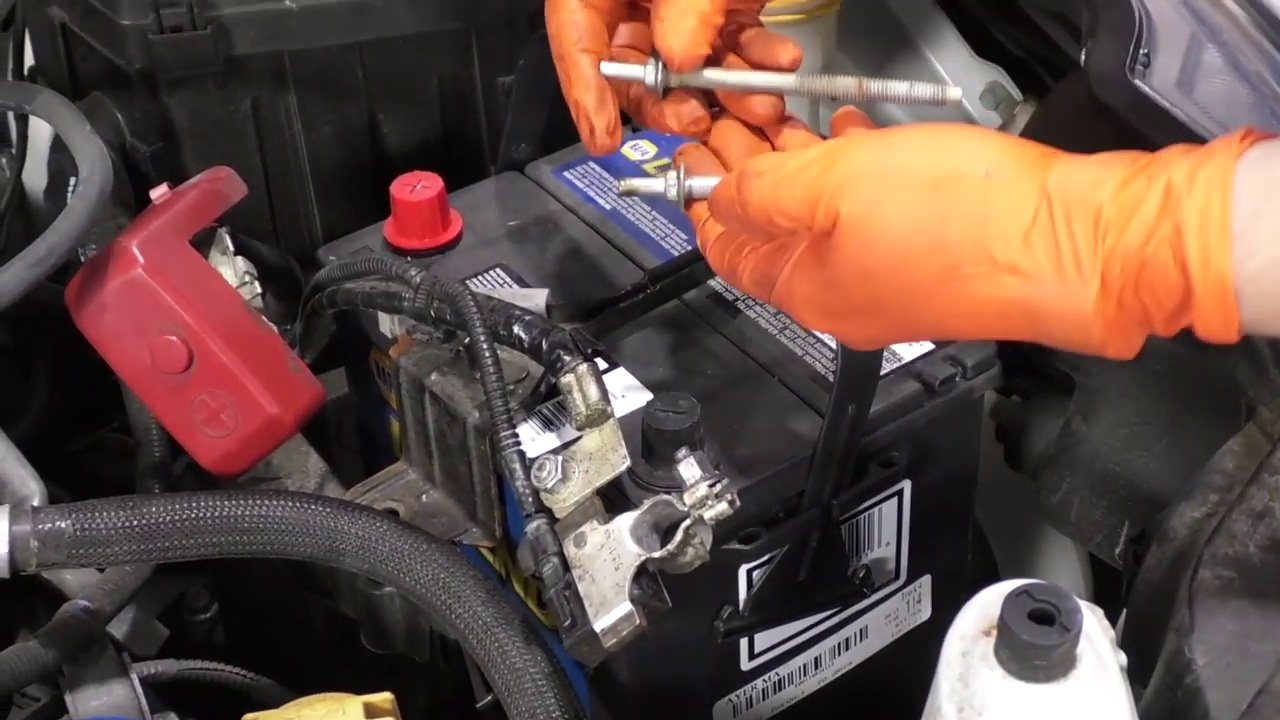battery: (320, 95, 1011, 505)
pos_disconnected: (100, 115, 481, 372)
